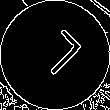L_SW: (26, 26, 84, 84)
